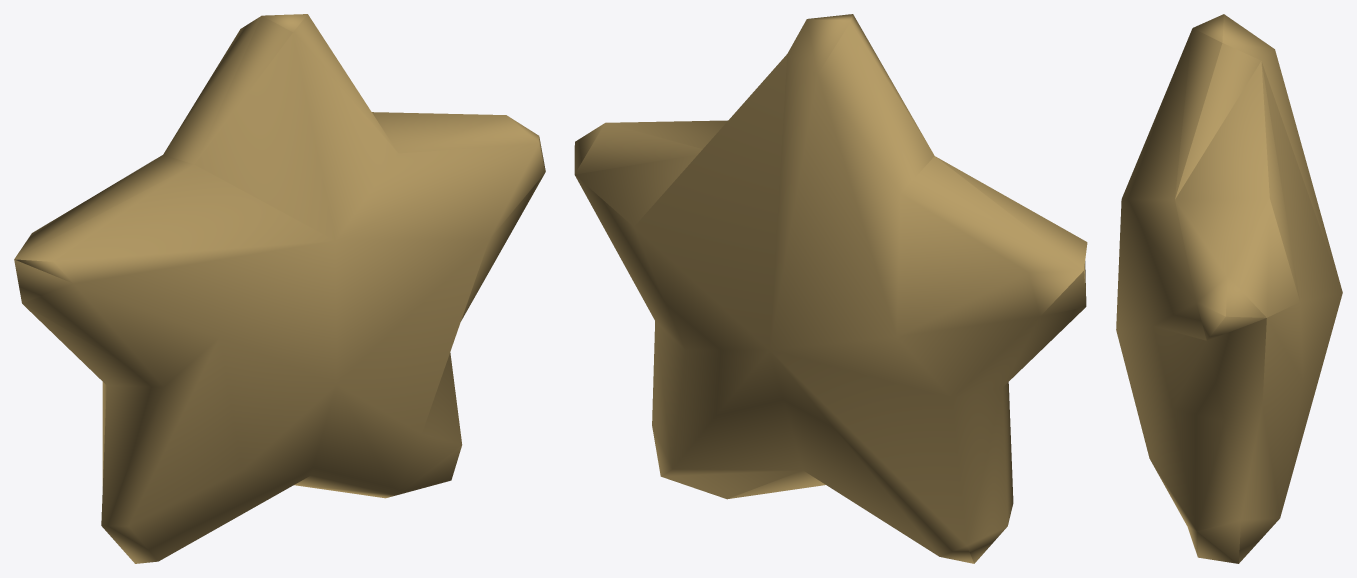
File: star_01.low.glb
3 views of the same model, side by side, from view 1: azimuth 30°, elevation 25°; view 2: azimuth 150°, elevation 25°; view 3: azimuth 270°, elevation 25° (orthographic). The views are drawn at different scales.
Size of the model in its own units: 1.82 by 1.73 by 0.7353.
